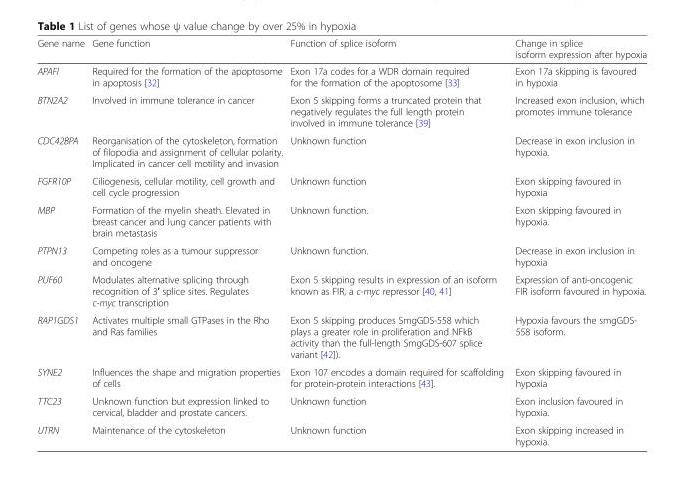table: (36, 36, 646, 446)
table column: (285, 36, 508, 446), (87, 36, 285, 446), (508, 36, 646, 446), (36, 36, 87, 446)
table column header: (36, 36, 646, 62)
table row: (36, 310, 646, 362), (36, 90, 646, 131), (36, 200, 646, 241), (36, 131, 646, 171), (36, 270, 646, 310), (36, 171, 646, 200), (36, 241, 646, 270), (36, 362, 646, 391), (36, 391, 646, 420), (36, 62, 646, 90), (36, 36, 646, 62), (36, 420, 646, 446)
